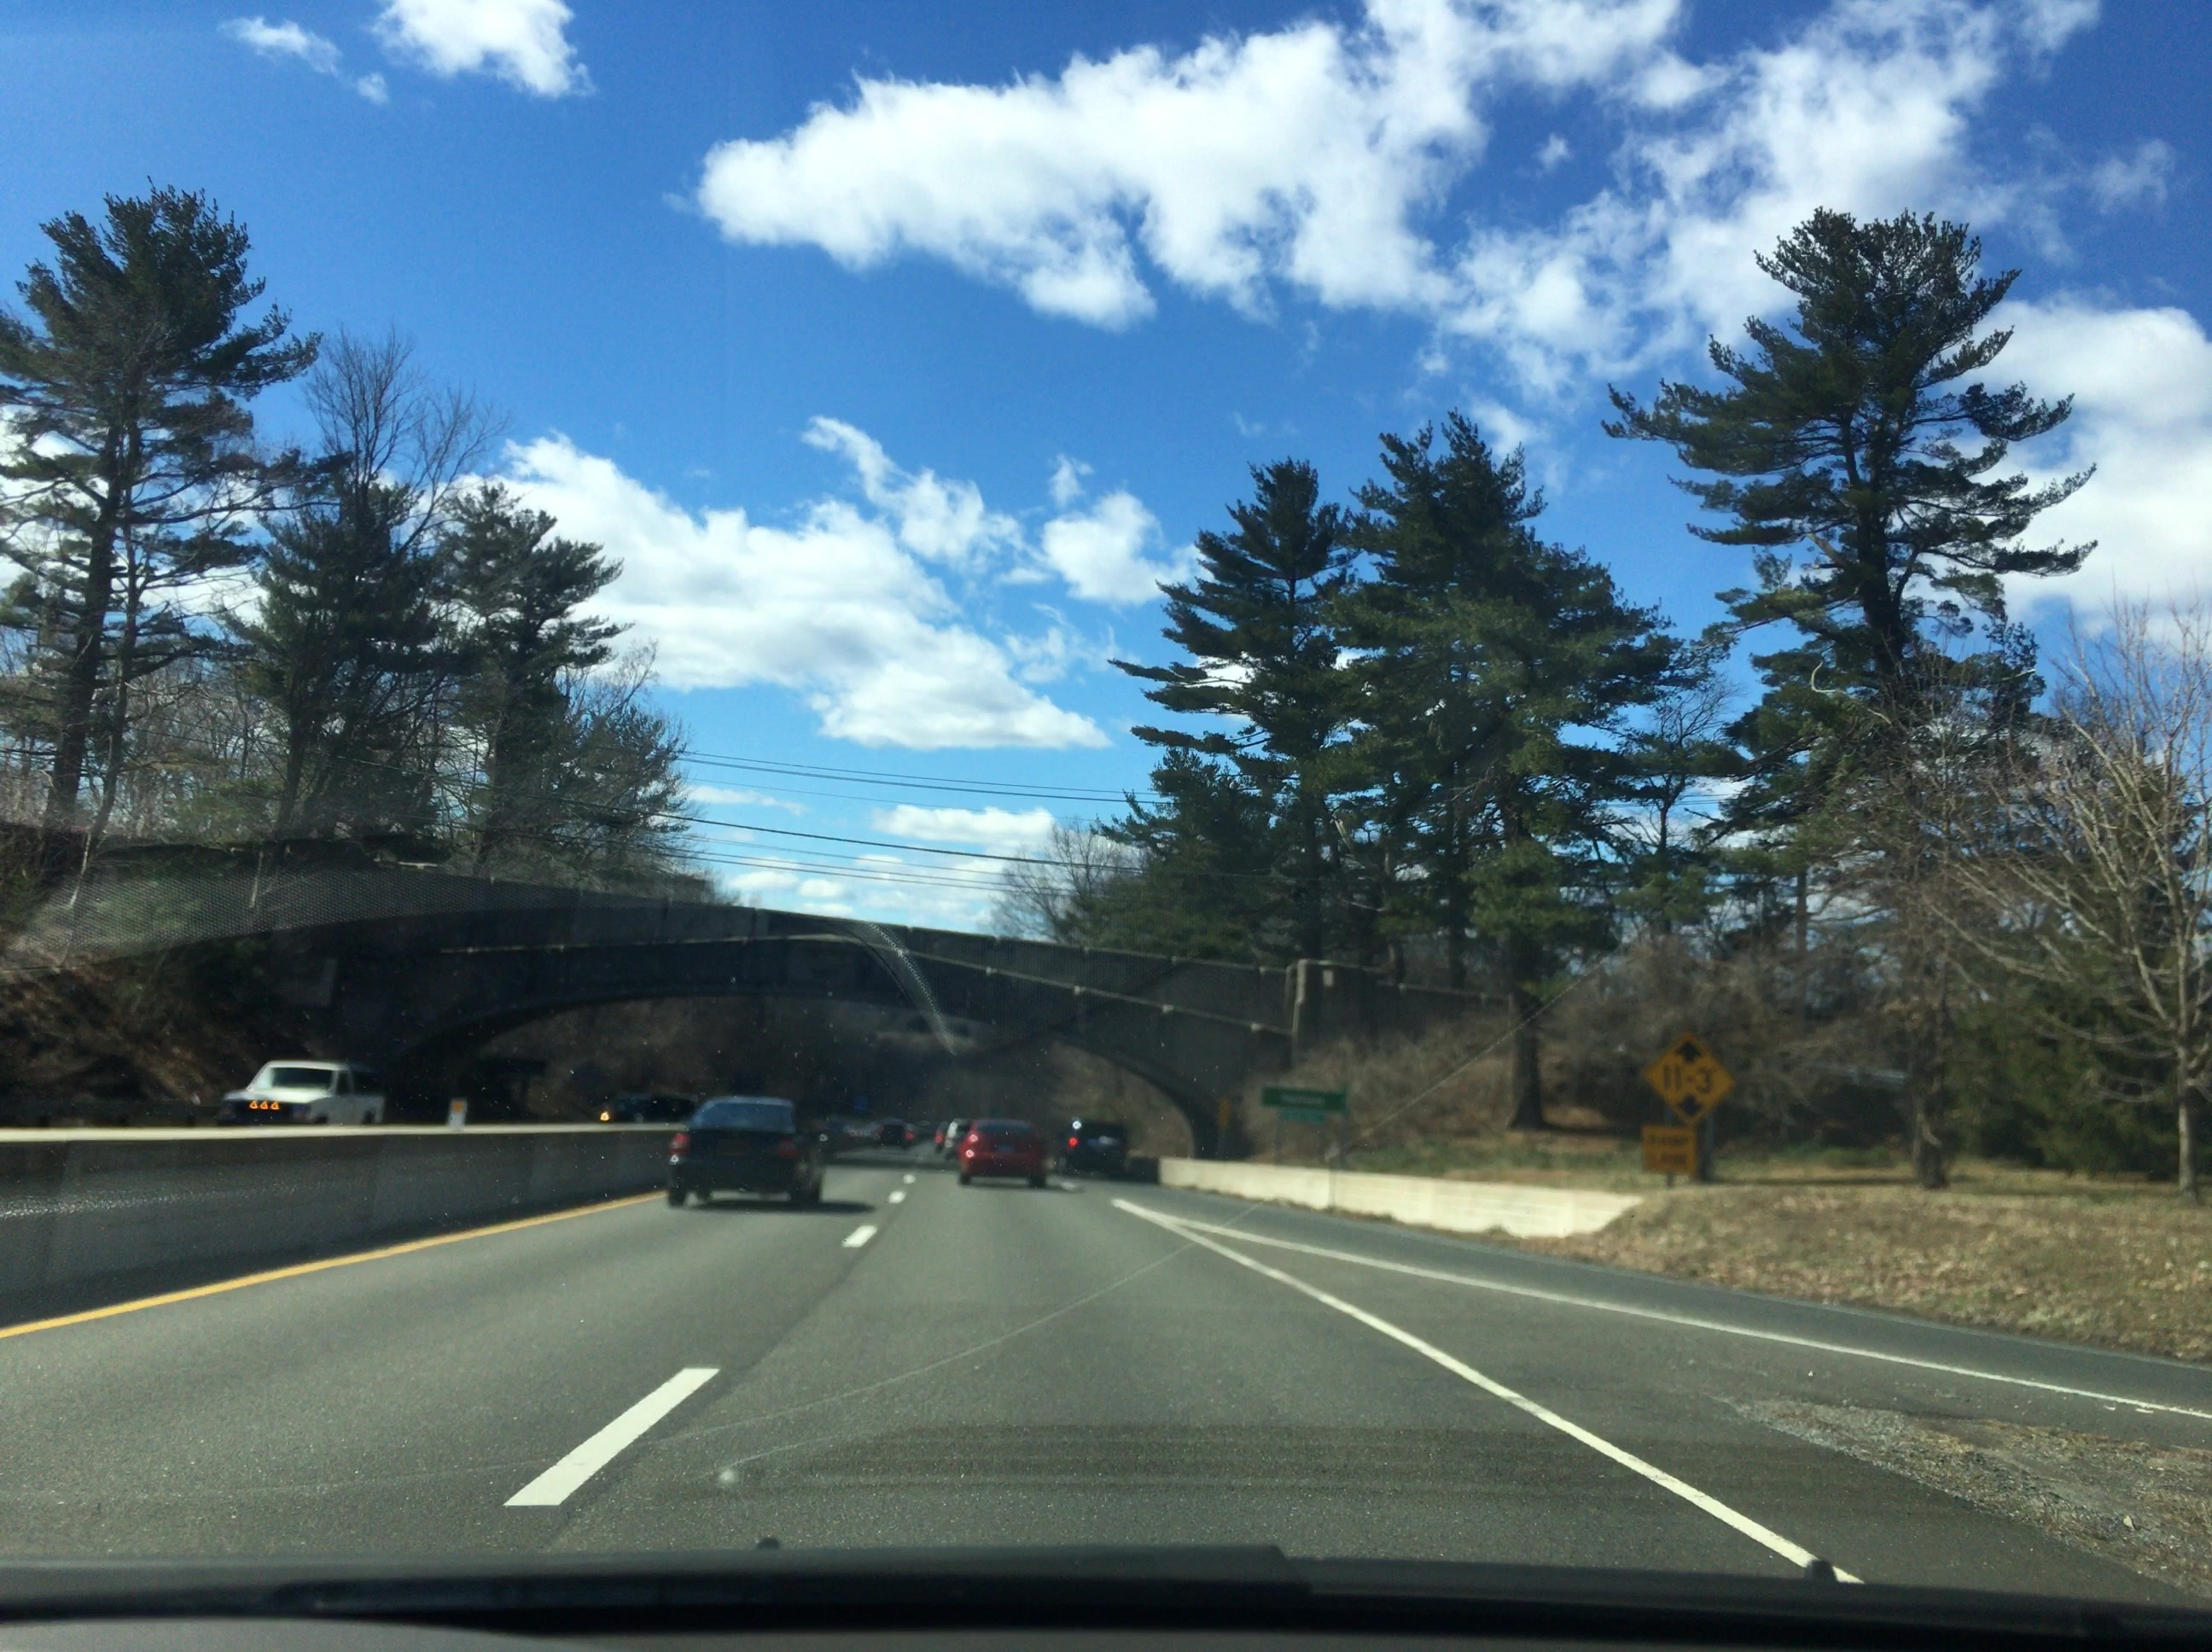low-clearance-sign: (1641, 1031, 1738, 1130)
